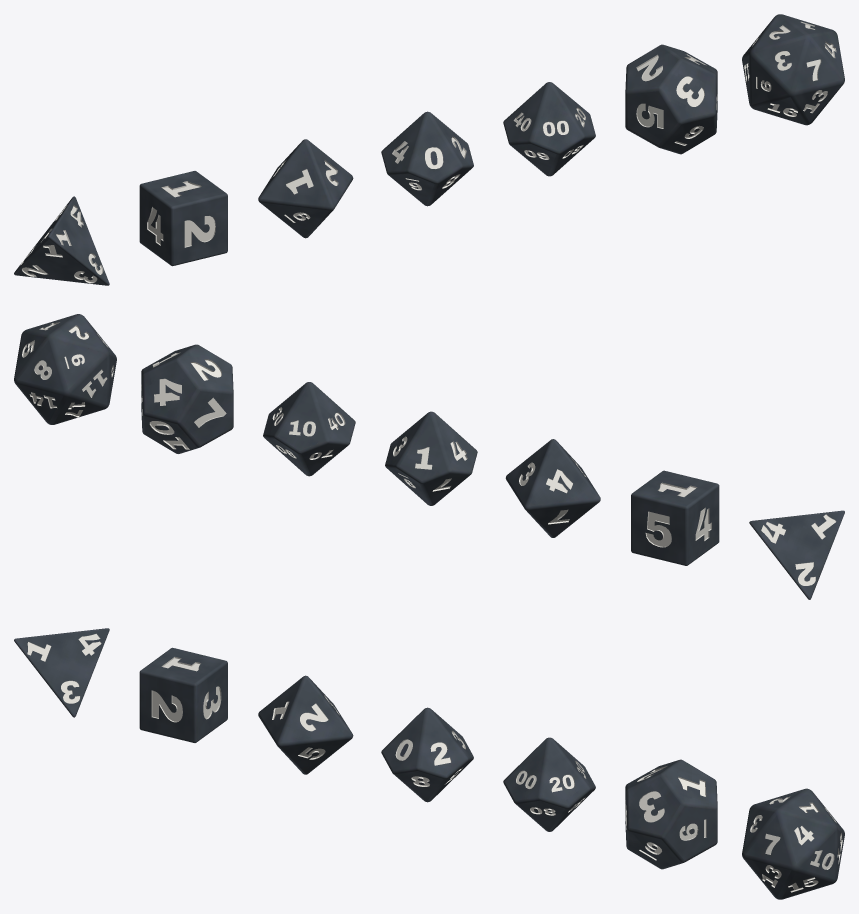
Rendered from slate.glb.
3 renders of one model, top to bottom at view 1: azimuth 30°, elevation 25°; view 2: azimuth 150°, elevation 25°; view 3: azimuth 330°, elevation 25°, orthographic.
Visible parts, largest first — view 1: d20, d12, d6, d100, d10, d8, d4; view 2: d20, d12, d6, d100, d10, d8, d4; view 3: d20, d12, d6, d8, d10, d100, d4.
Part boxes in pixels (<box>): d20: <box>742,14,844,125</box>; d12: <box>625,44,717,154</box>; d6: <box>139,171,227,266</box>; d100: <box>503,82,595,176</box>; d10: <box>381,111,473,206</box>; d8: <box>258,139,353,238</box>; d4: <box>14,196,109,285</box>; d20: <box>14,314,116,424</box>; d12: <box>141,344,233,453</box>; d6: <box>631,470,719,565</box>; d100: <box>263,382,355,476</box>; d10: <box>385,411,477,505</box>; d8: <box>505,439,600,537</box>; d4: <box>749,510,844,599</box>; d20: <box>742,788,844,899</box>; d12: <box>625,759,717,869</box>; d6: <box>139,647,227,742</box>; d8: <box>258,675,353,774</box>; d10: <box>381,707,473,802</box>; d100: <box>503,737,595,831</box>; d4: <box>14,628,109,717</box>.
Size of the model in its own units: 21.14 by 2.47 by 2.47.
Materials: 14 (7 with a texture image).
